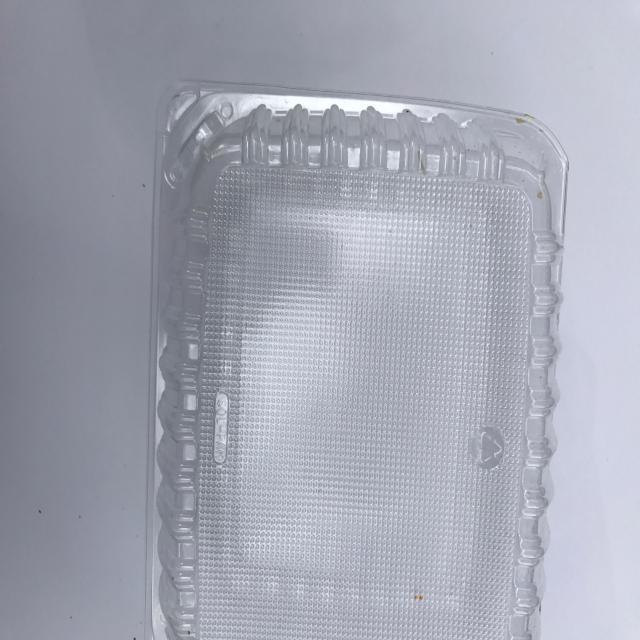plastic: (144, 74, 571, 640)
